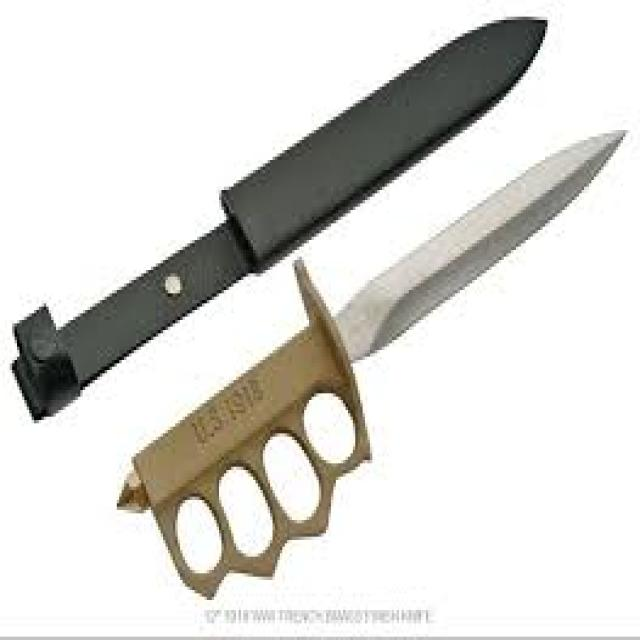knives: (8, 6, 552, 426)
